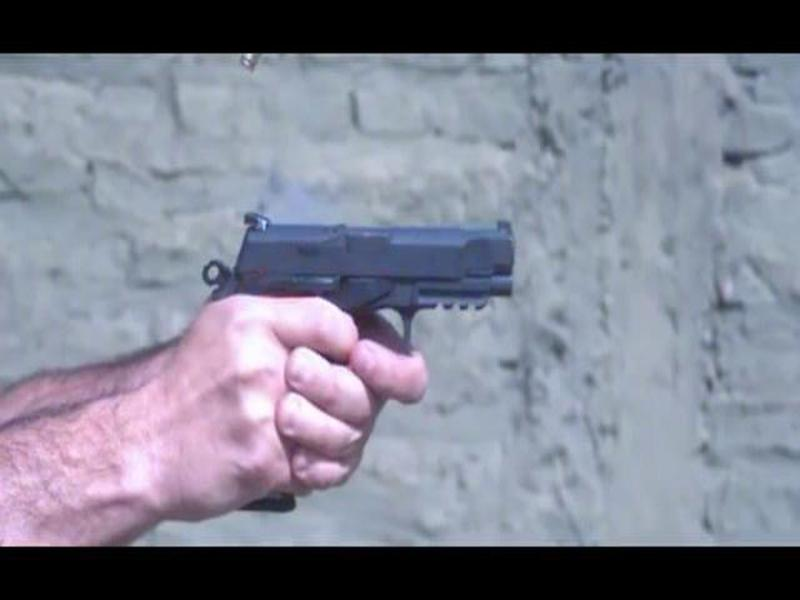Pistola: (172, 189, 594, 374)
